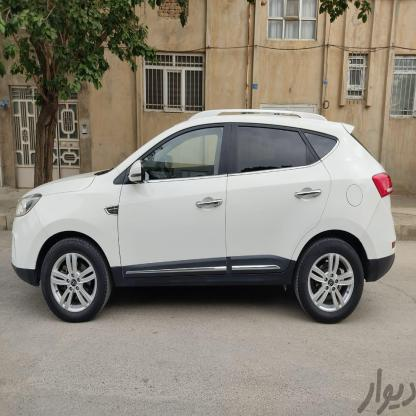Car: (4, 108, 410, 328)
